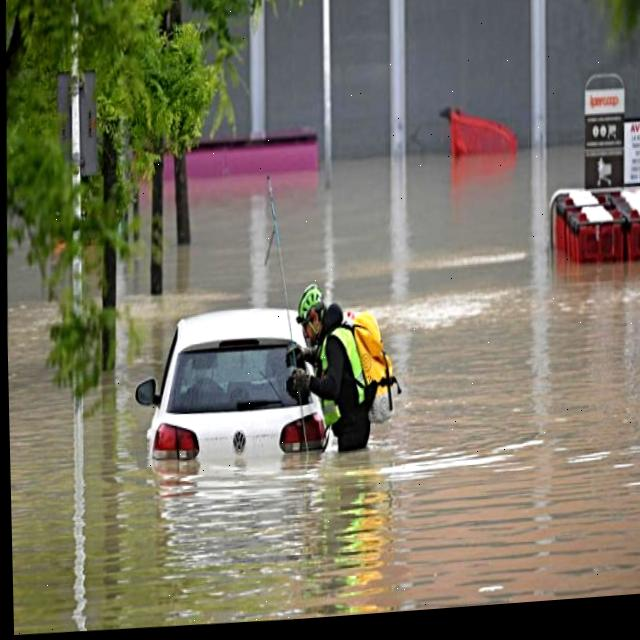rescuer: (271, 264, 408, 462)
